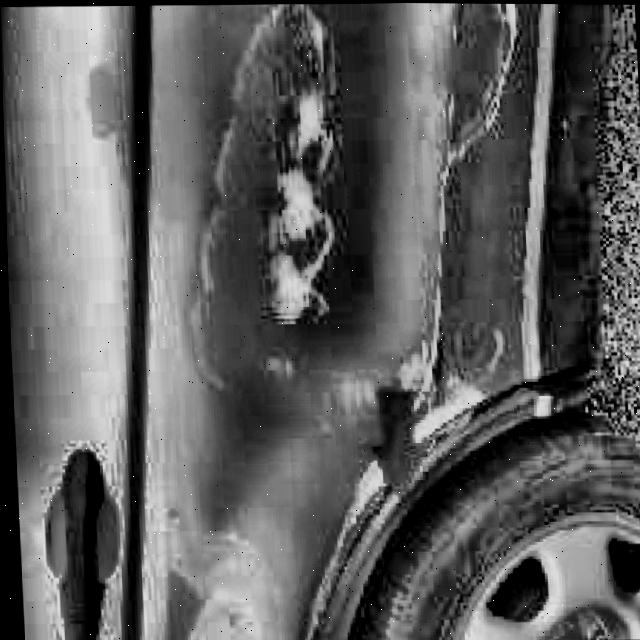door_scratch: (391, 3, 544, 360), (246, 11, 361, 339), (297, 499, 374, 609)
